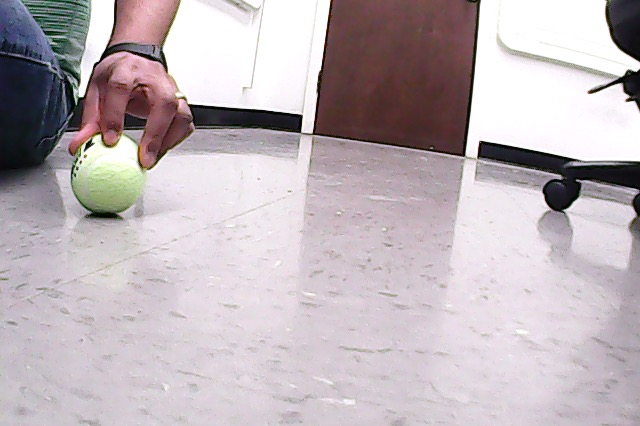ball: (70, 131, 147, 217)
